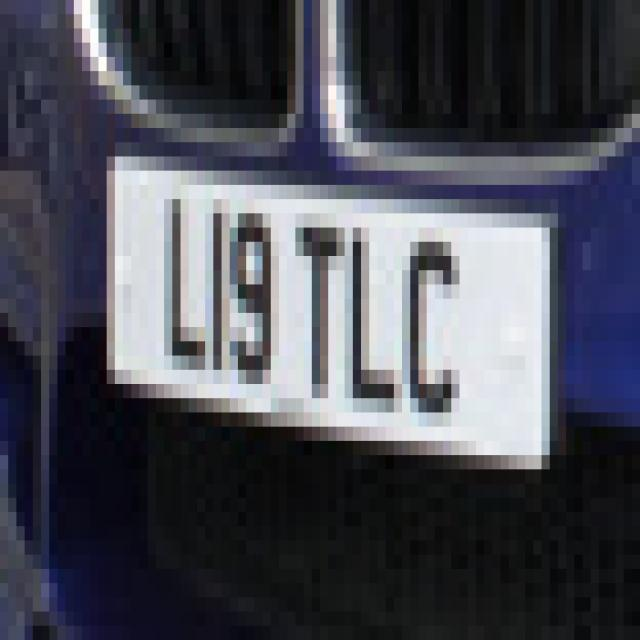1: (208, 194, 230, 375)
9: (230, 199, 280, 392)
C: (403, 221, 463, 424)
L: (346, 215, 401, 419), (168, 186, 208, 372)
T: (296, 212, 346, 417)
